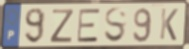9: (24, 7, 47, 46), (131, 7, 153, 44)
E: (76, 8, 101, 44)
K: (158, 7, 180, 42)
S: (103, 6, 128, 44)
Z: (49, 8, 76, 44)
